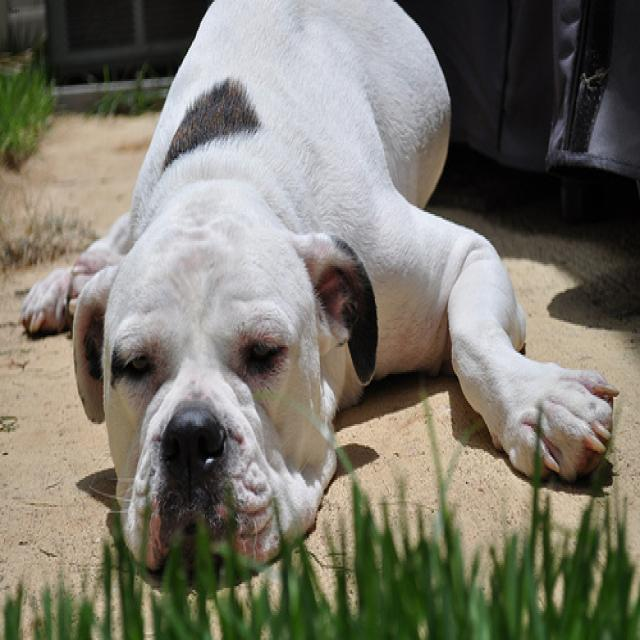dog-american_bulldog: (14, 2, 625, 592)
